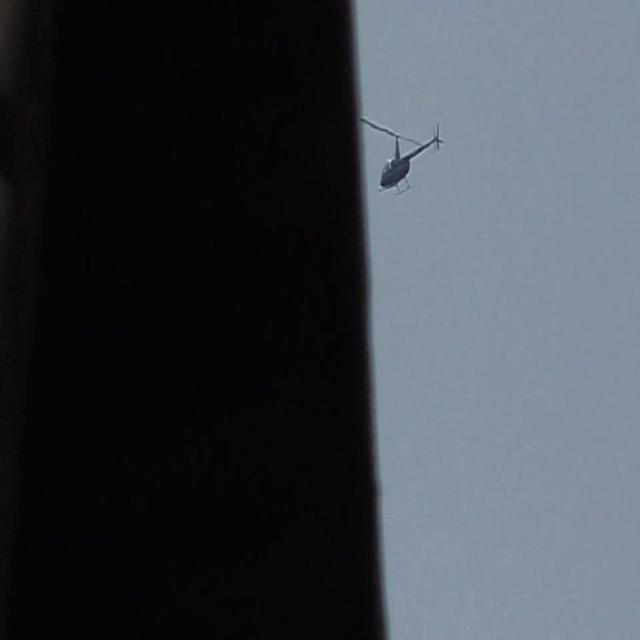CIV_HELO: (379, 122, 445, 195)
